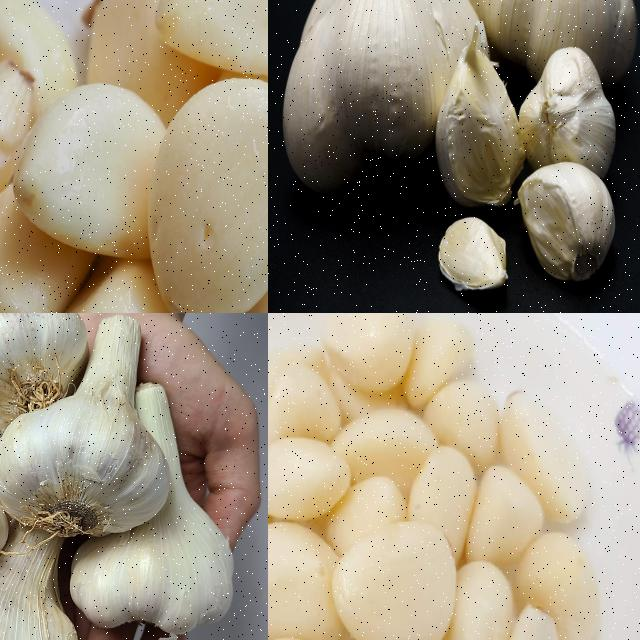garlic: (268, 313, 605, 639), (0, 0, 267, 312), (65, 384, 249, 636), (278, 0, 483, 196), (0, 315, 174, 543), (452, 0, 639, 81), (439, 41, 528, 204), (513, 158, 617, 284), (519, 52, 624, 172), (0, 313, 92, 445), (0, 511, 88, 639), (437, 214, 511, 296)
